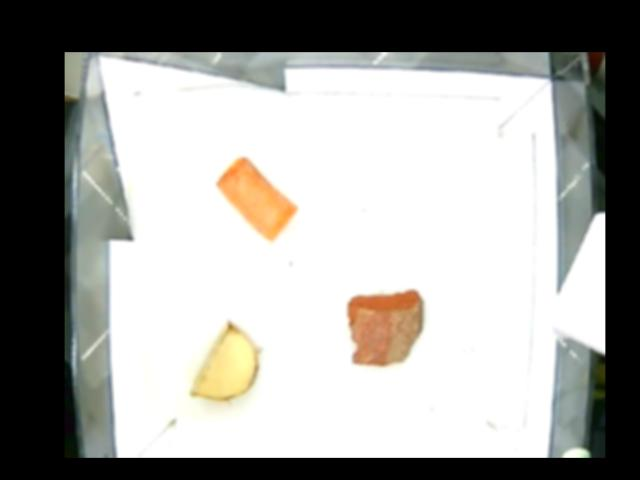Brisk: (346, 289, 423, 367)
Carrot: (213, 155, 299, 243)
Potato: (191, 321, 259, 399)
